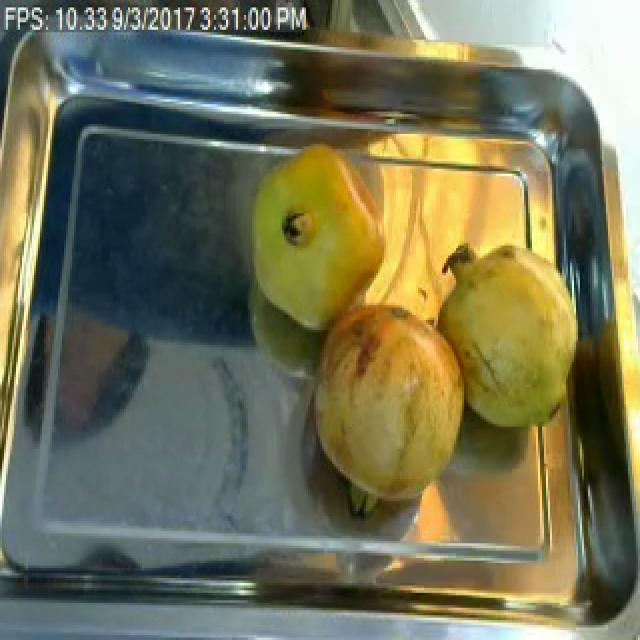fruit: (300, 290, 476, 531), (420, 223, 590, 447), (230, 131, 400, 340)
